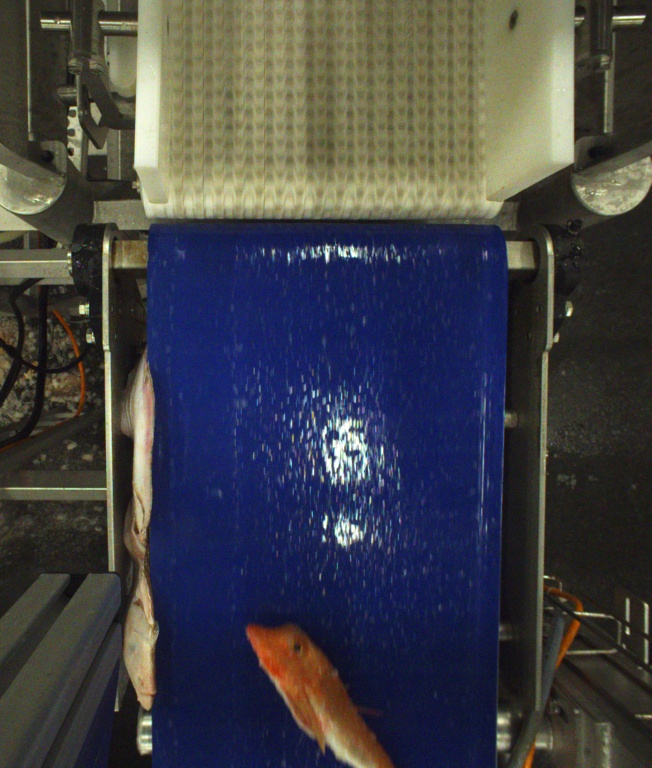GUU: (237, 624, 395, 768)
